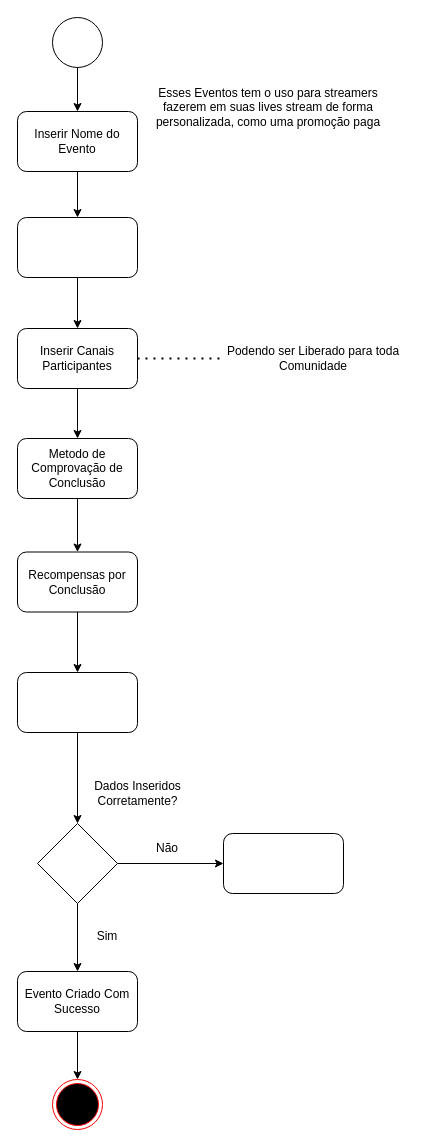
Image size: 421x1147. Some labels were removed from this diagram. Here are the shapes that lost their labels. From the top down, the centre of each, then its label:
At point (77, 247): "Inserir o que deve ser feito no evento".
At point (77, 702): "Data de Conclusão".
At point (283, 863): "Revise os dados e tente Novamente".
